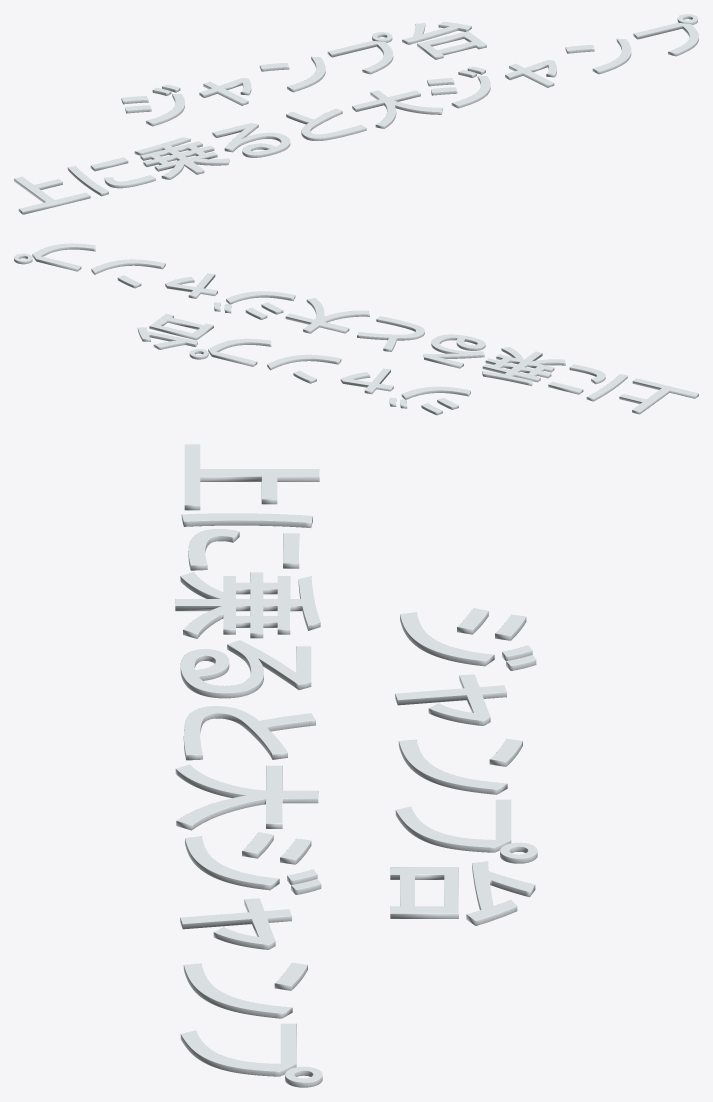
Rendered from stage1_spring_pad.obj.
3 views of the same model, one above another, from view 1: azimuth 30°, elevation 25°; view 2: azimuth 150°, elevation 25°; view 3: azimuth 270°, elevation 25° (orthographic). The views are drawn at different scales.
Visible parts, largest first — view 1: stage1_spring_pad; view 2: stage1_spring_pad; view 3: stage1_spring_pad.
Boxes of the visible parts, bbox=[...] form: stage1_spring_pad: bbox=[14, 14, 698, 214]; stage1_spring_pad: bbox=[14, 243, 698, 415]; stage1_spring_pad: bbox=[175, 444, 537, 1087].
Size of the model in its own units: 3.35 by 0.0131 by 0.8037.
Materials: 1 (1 with a texture image).
